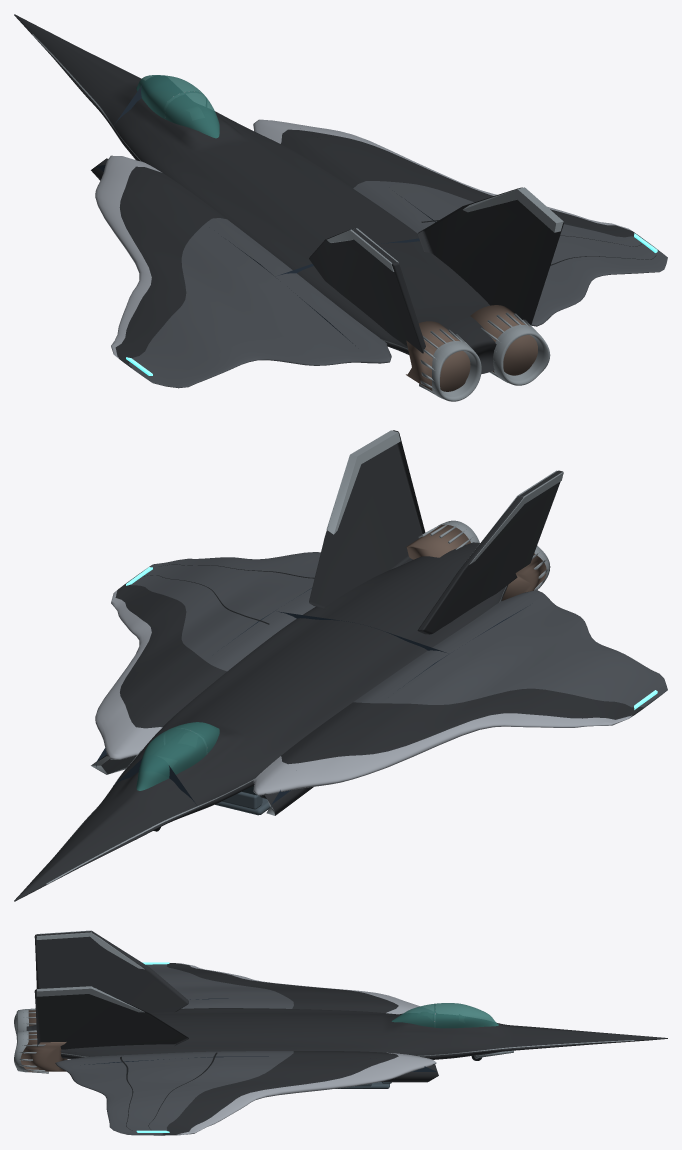
The picture shows the model from 3 angles, top to bottom: view 1: azimuth 30°, elevation 25°; view 2: azimuth 150°, elevation 25°; view 3: azimuth 270°, elevation 25°; orthographic projection. The views are drawn at different scales.
Visible parts, largest first — view 1: Airframe shell mesh, Aft nacelles, Central fuselage, Port wing, Starboard wing, AileronSampleS, Forward fuselage, Reference Combat mesh, AileronSampleP; view 2: Airframe shell mesh, Central fuselage, Aft nacelles, Port wing, Starboard wing, Forward fuselage, Reference Combat mesh, AileronSampleS, AileronSampleP, Cockpit shell mesh; view 3: Airframe shell mesh, Aft nacelles, Central fuselage, Starboard wing, Port wing, Forward fuselage, Reference Combat mesh, AileronSampleP.
Boxes of the visible parts, x1,y1,x2,y2 form: Airframe shell mesh: (14, 15, 667, 401); Aft nacelles: (275, 187, 563, 401); Central fuselage: (96, 75, 435, 276); Port wing: (91, 164, 372, 388); Starboard wing: (286, 122, 667, 319); AileronSampleS: (158, 335, 324, 387); Forward fuselage: (14, 14, 156, 128); Reference Combat mesh: (137, 75, 219, 137); AileronSampleP: (547, 259, 666, 302); Airframe shell mesh: (14, 430, 667, 901); Central fuselage: (96, 611, 449, 812); Aft nacelles: (275, 430, 563, 653); Port wing: (271, 596, 666, 811); Starboard wing: (91, 552, 318, 769); Forward fuselage: (14, 755, 197, 900); Reference Combat mesh: (136, 722, 219, 790); AileronSampleS: (542, 613, 664, 688); AileronSampleP: (161, 552, 320, 570); Cockpit shell mesh: (215, 785, 269, 815); Airframe shell mesh: (14, 931, 667, 1135); Aft nacelles: (14, 930, 193, 1073); Central fuselage: (193, 998, 475, 1080); Starboard wing: (61, 1056, 438, 1135); Port wing: (142, 962, 419, 1006); Forward fuselage: (476, 1009, 667, 1055); Reference Combat mesh: (392, 1003, 498, 1027); AileronSampleP: (75, 1077, 128, 1132).
Bounding box in the file's own units: 13.4 × 4.25 × 21.62.
